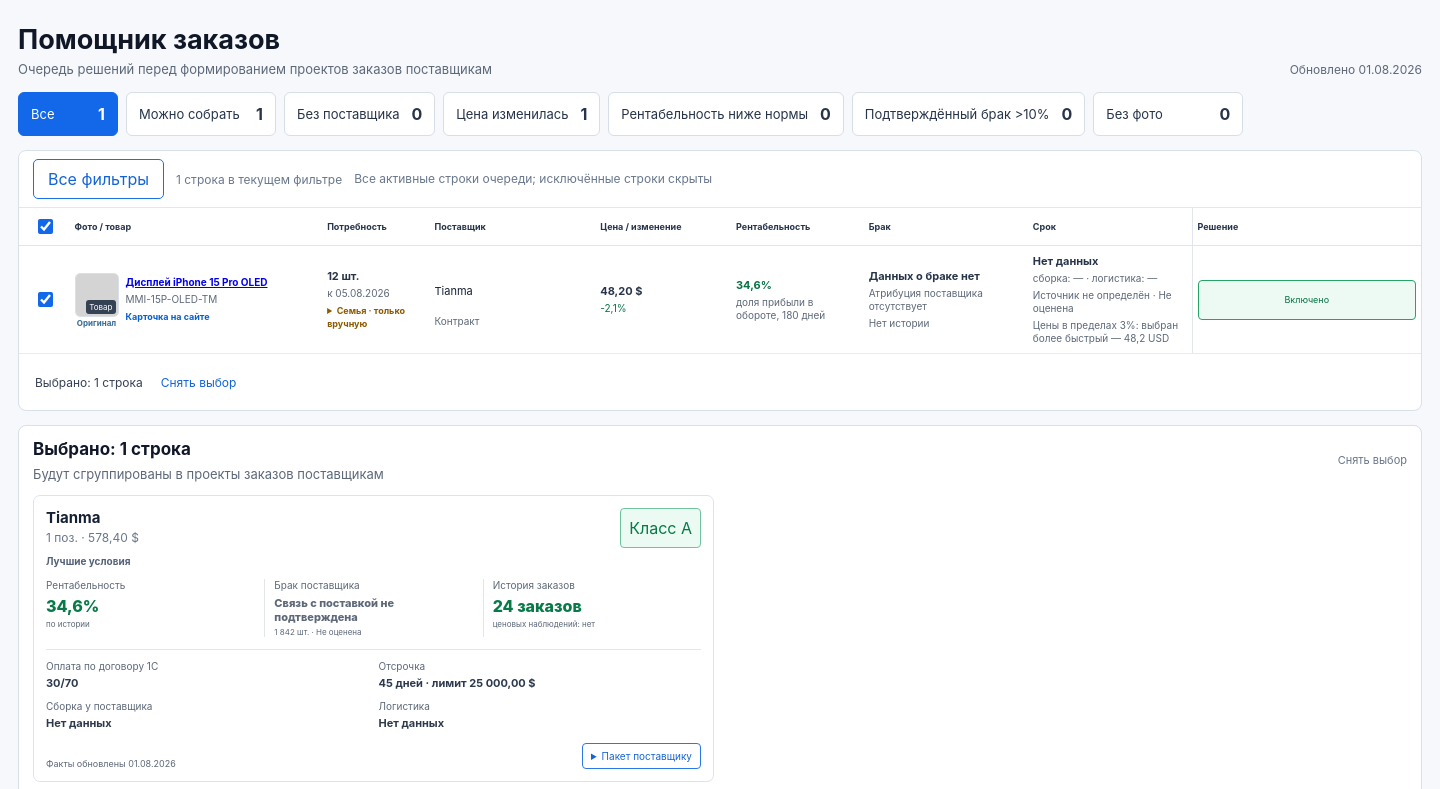
it: ProcurementOrderAssistant › фильтрует очередь быстрыми кнопками и показывает оба варианта пакета
The image size is (1440, 789).
Check: the link "Дисплей iPhone 15 Pro OLED" is shown, box [126,276,268,288]
Click the button "Подтверждённый брак >10% 0" at (969, 114), box [852,92,1085,136]
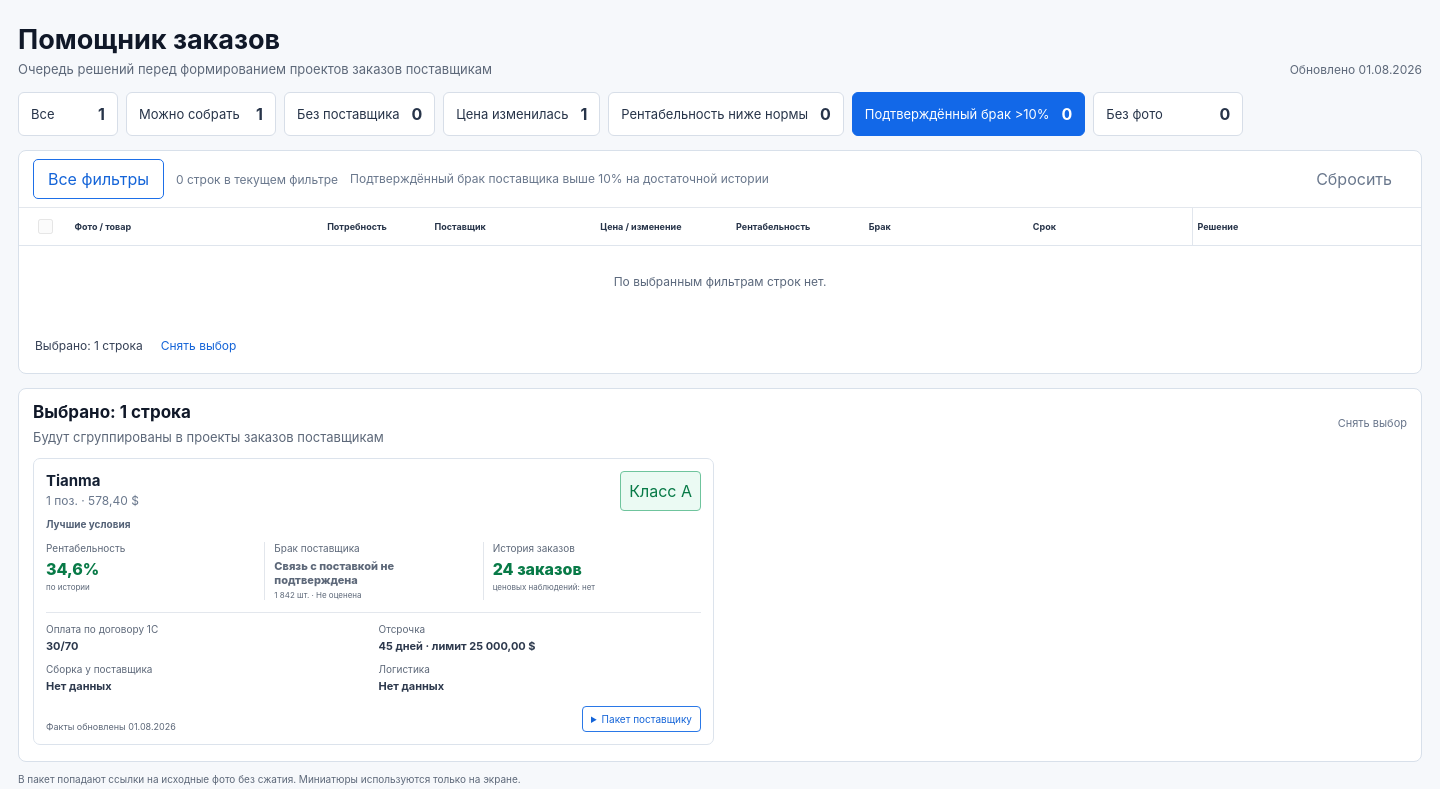
Check: the link "Дисплей iPhone 15 Pro OLED" is gone
Check: the text "По выбранным фильтрам строк нет." is shown, box [614,274,826,289]
Click the button named "Все1" at (68, 114), box [18,92,118,136]
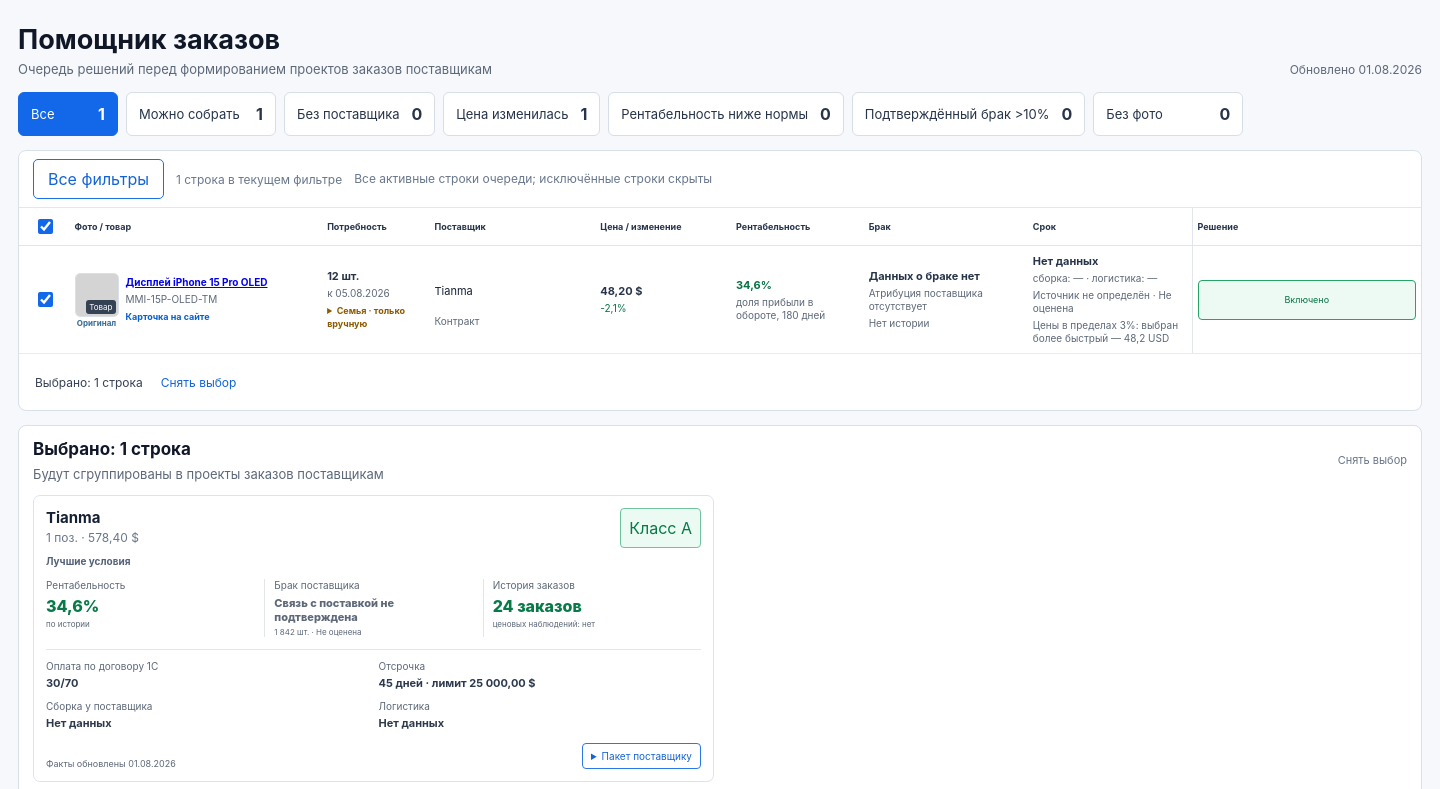
Click the button "Все фильтры" at (98, 179), box [33,159,164,199]
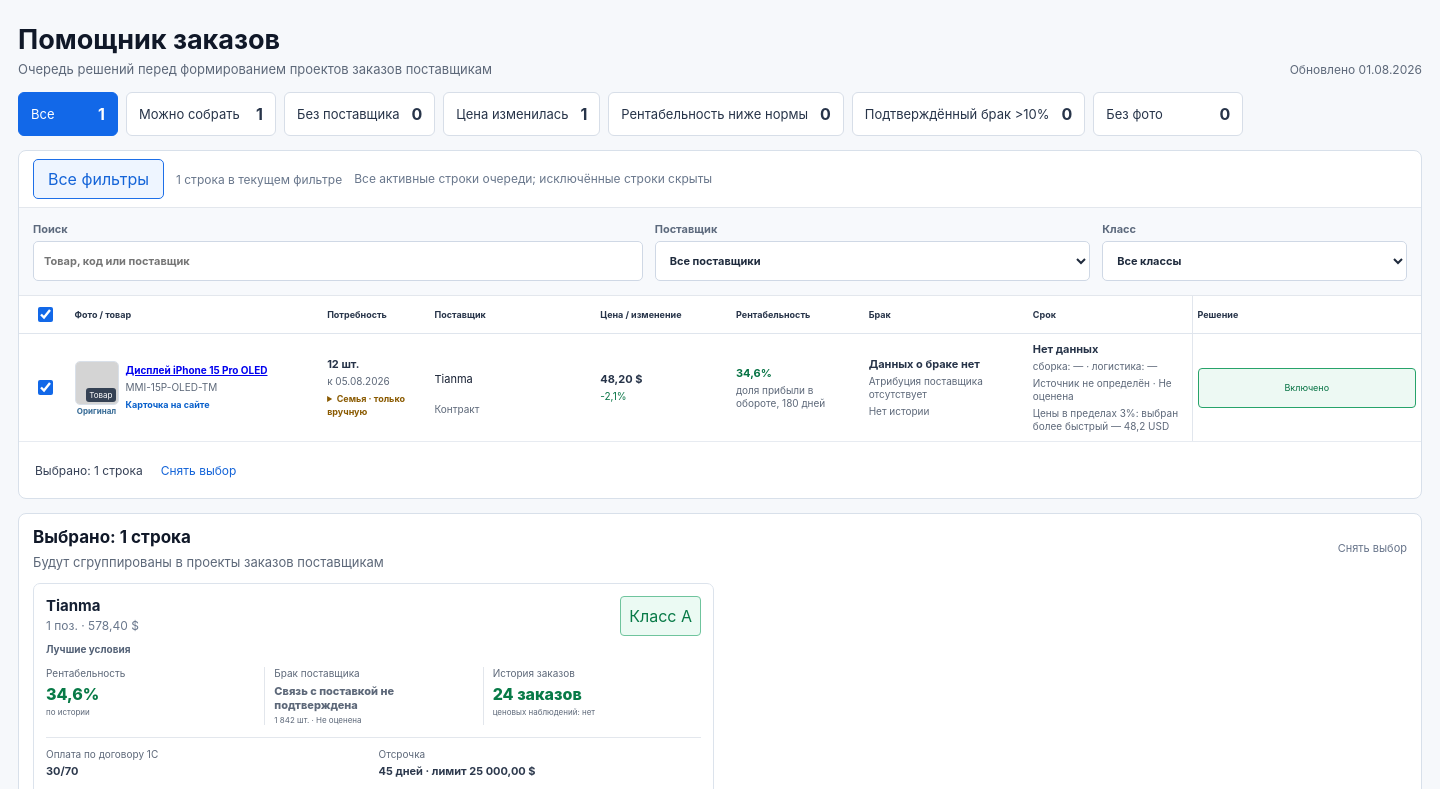
Check: the search field with placeholder "Товар, код или поставщик" is shown, box [33,241,643,281]
